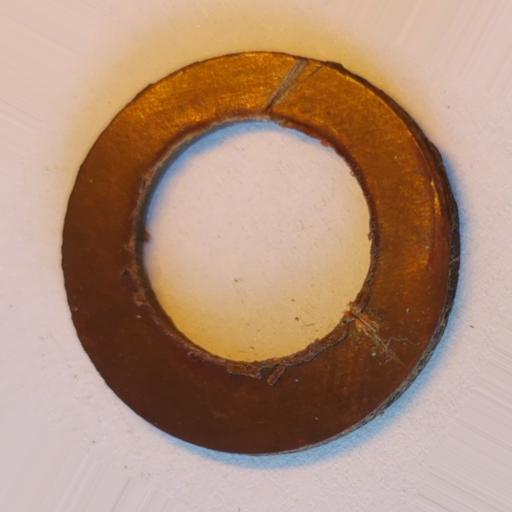defect: (343, 303, 409, 370), (264, 57, 324, 118)
